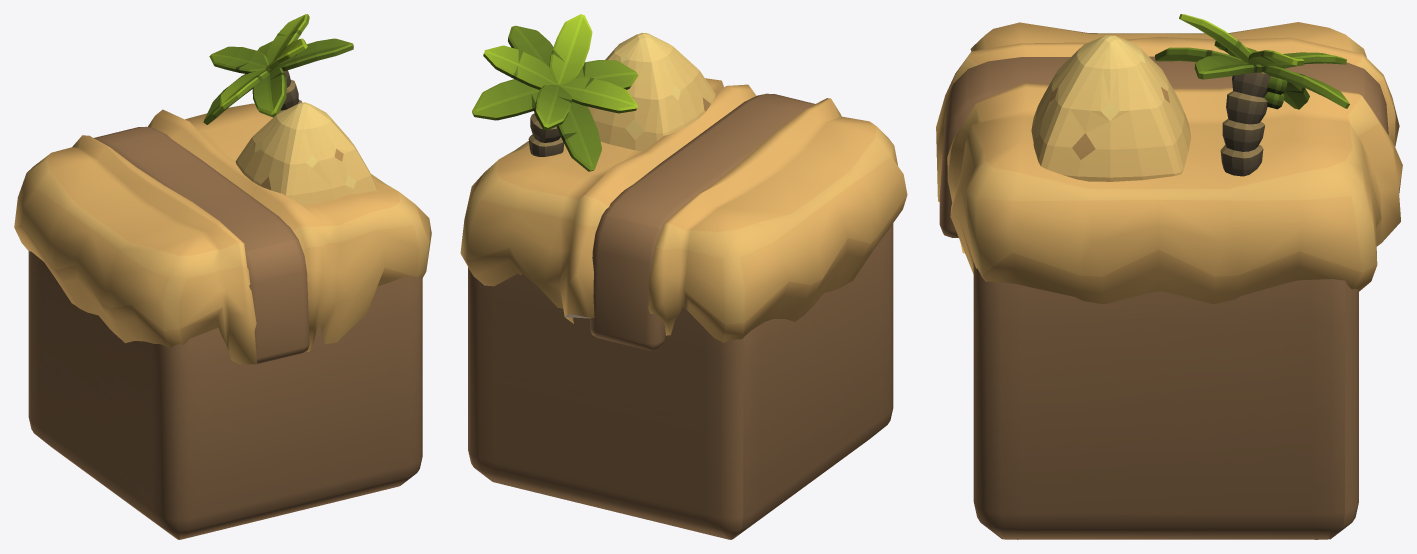
The model's file is Desert5.fbx.
3 renders of one model, left to right at view 1: azimuth 30°, elevation 25°; view 2: azimuth 150°, elevation 25°; view 3: azimuth 270°, elevation 25°, orthographic. The views are drawn at different scales.
Parts seen in each view (by area): view 1: Desert5, Winter_Cube5.001, Desert_Cube_05 .002, Winter5.002; view 2: Desert5, Winter_Cube5.001, Desert_Cube_05 .002, Winter5.002; view 3: Desert5, Winter_Cube5.001, Desert_Cube_05 .002, Winter5.002.
Part boxes in pixels (x1,y1,x2,y2): Desert5: (28,251,422,539); Winter_Cube5.001: (14,103,431,364); Desert_Cube_05 .002: (203,14,377,205); Winter5.002: (94,126,309,363); Desert5: (468,223,893,539); Winter_Cube5.001: (460,78,907,342); Desert_Cube_05 .002: (472,14,715,171); Winter5.002: (590,93,814,350); Desert5: (973,262,1358,539); Winter_Cube5.001: (936,22,1402,303); Desert_Cube_05 .002: (1031,14,1349,181); Winter5.002: (939,56,1388,237).
Bounding box in the file's own units: 115 × 147 × 121.
